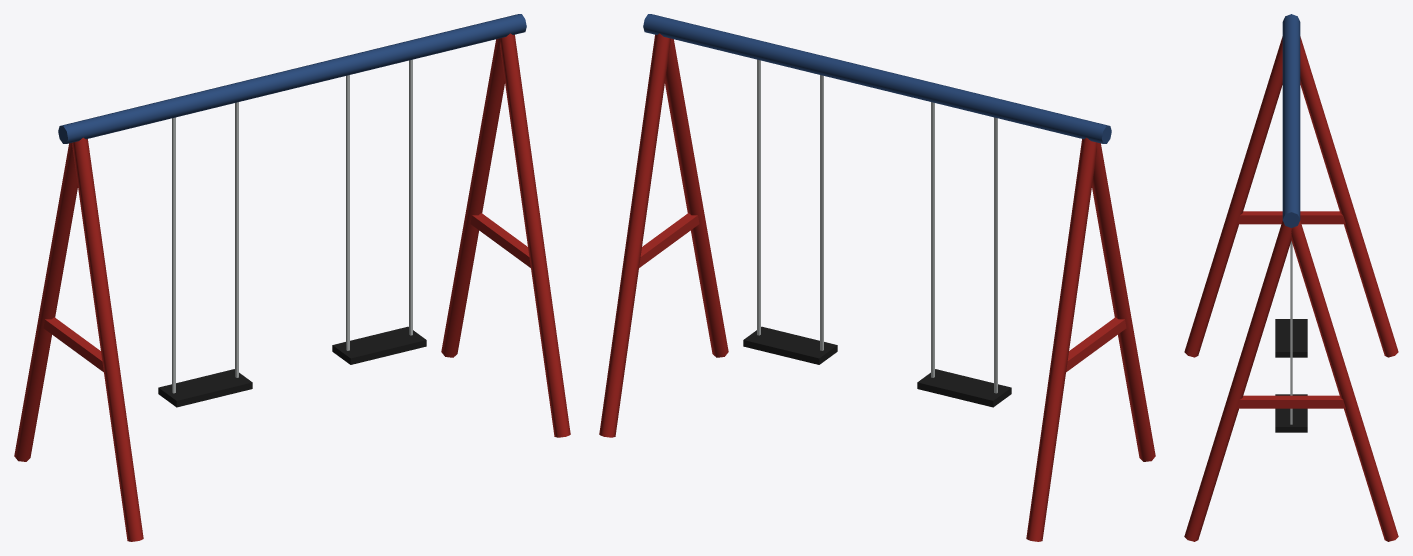
The model's file is swing_set.glb.
3 views of the same model, side by side, from view 1: azimuth 30°, elevation 25°; view 2: azimuth 150°, elevation 25°; view 3: azimuth 270°, elevation 25° (orthographic). The views are drawn at different scales.
Visible parts, largest first — view 1: swing_set; view 2: swing_set; view 3: swing_set.
Boxes of the visible parts, x1,y1,x2,y2 form: swing_set: (14, 14, 570, 541); swing_set: (599, 14, 1155, 541); swing_set: (1184, 14, 1398, 541).
Bounding box in the file's own units: 2.9 × 2.29 × 1.33.
1 material, 1 textured.
